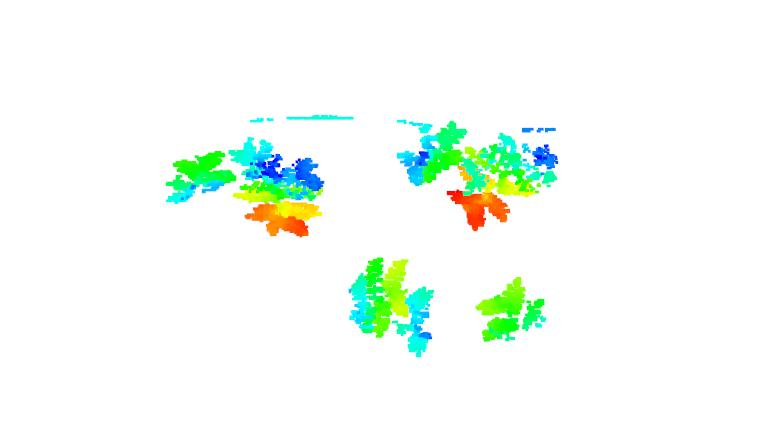chickpea: (447, 129, 560, 233), (227, 137, 326, 241), (347, 256, 438, 358), (397, 121, 470, 189), (474, 277, 550, 341), (162, 147, 236, 210)
